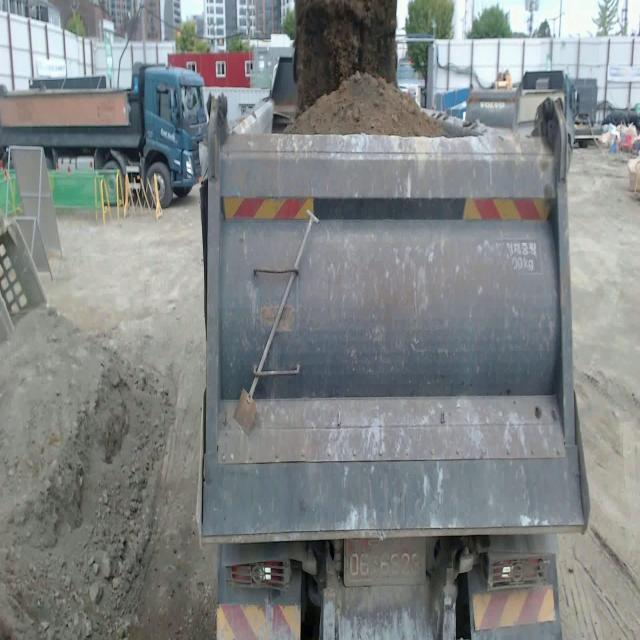red-sand: (283, 73, 442, 137)
white-sand: (0, 309, 175, 639)
